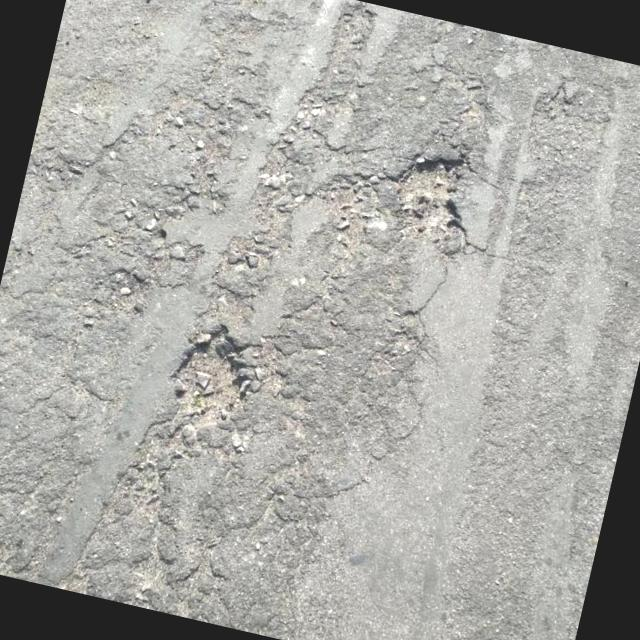pothole: (160, 312, 262, 434), (382, 138, 483, 252)
